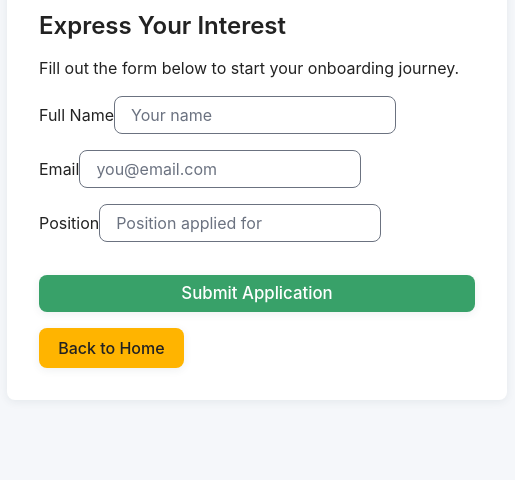
Test: InterestForm component › submits successfully and shows success banner
The image size is (515, 480).
Type "Jane Smith" into the field with placeholder "Your name". click: (255, 115)
box: x1=114 y1=96 x2=396 y2=134
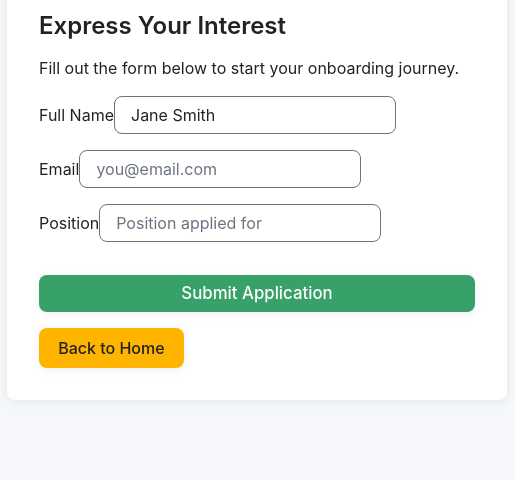
Type "jane@example.com" into the field with placeholder "you@email.com". click: (220, 169)
box: x1=79 y1=150 x2=361 y2=188
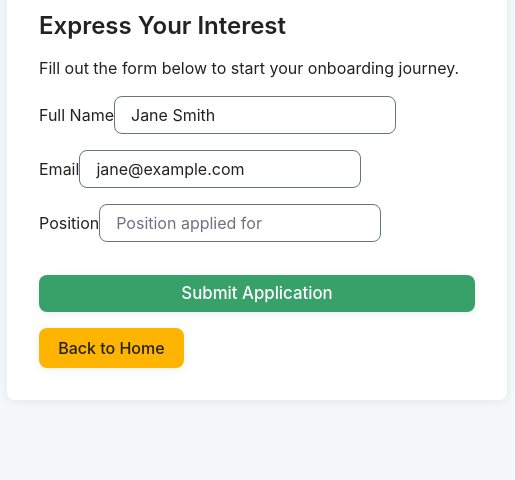
Type "Designer" into the field with placeholder "Position applied for". click: (240, 223)
box: x1=99 y1=204 x2=381 y2=242
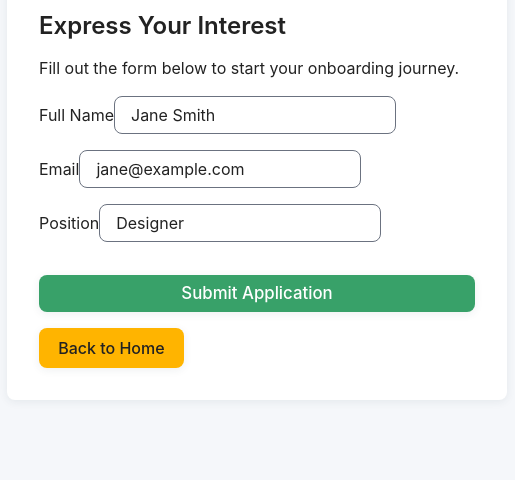
Click the button "Submit Application". click: (257, 293)
box: x1=39 y1=275 x2=475 y2=312
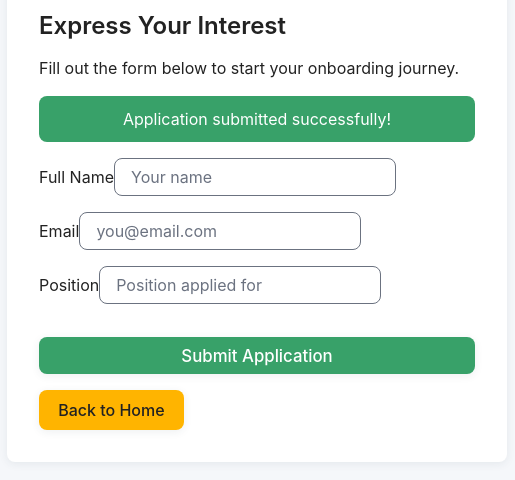
expect the text "Application submitted successfully!" is shown: met, box x1=39 y1=96 x2=475 y2=142
expect the field with placeholder "Your name" is empty: met, box x1=114 y1=158 x2=396 y2=196
expect the field with placeholder "you@email.com" is empty: met, box x1=79 y1=212 x2=361 y2=250
